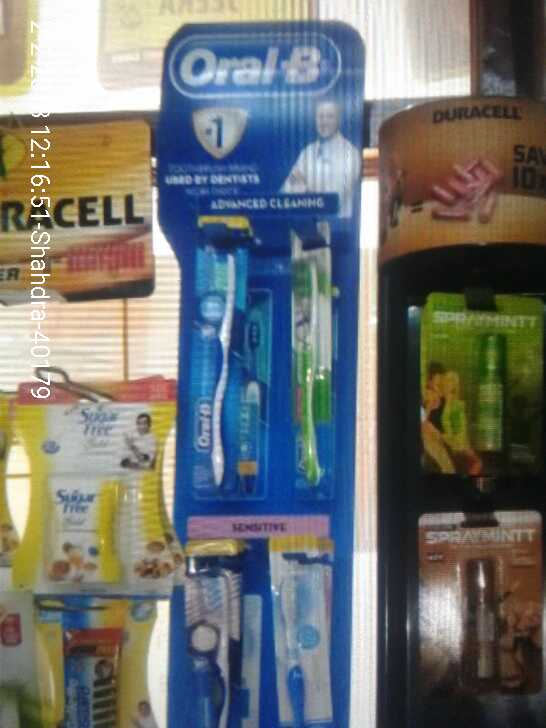oralb: (279, 246, 337, 493), (194, 242, 243, 486), (192, 573, 243, 728), (274, 567, 323, 728)
